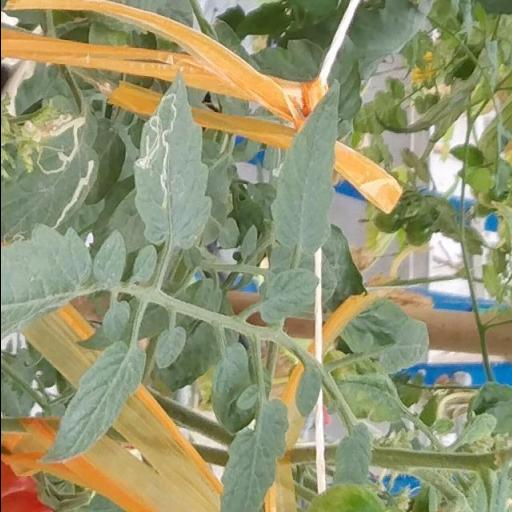Healthy: (39, 340, 149, 466), (268, 76, 343, 258), (254, 267, 320, 327)
Leaf Miner: (128, 65, 214, 253), (27, 90, 103, 242)
